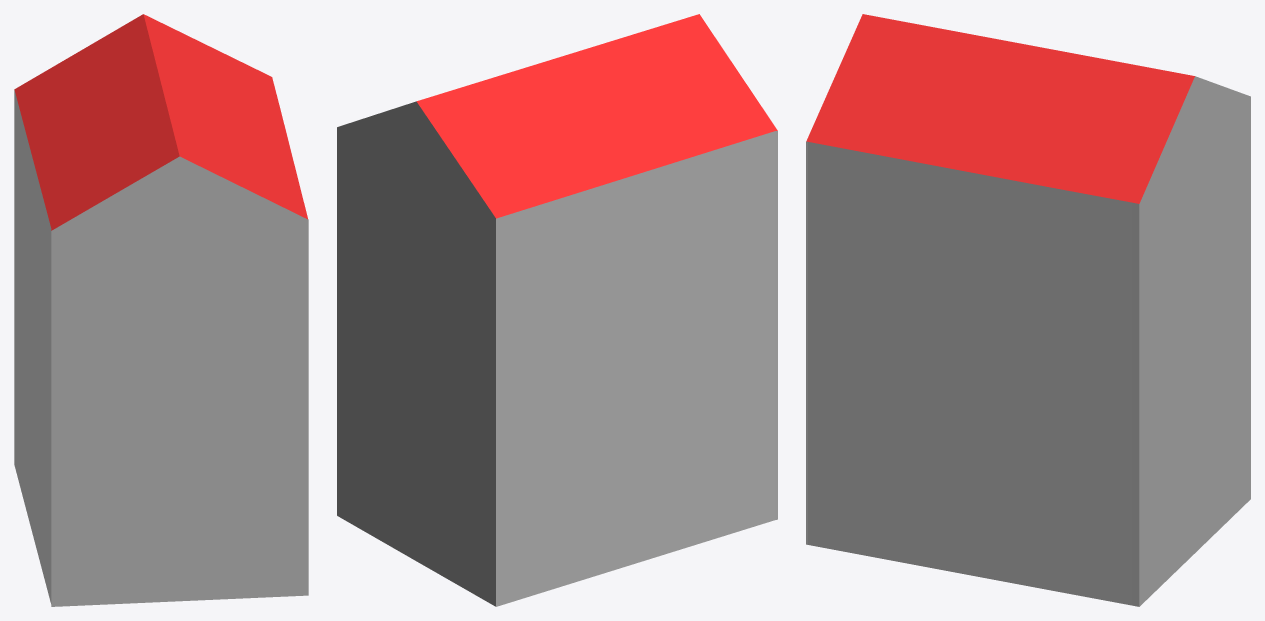
File: DEBY_LOD2_4907146.dae
The picture shows the model from 3 angles, left to right: view 1: azimuth 30°, elevation 25°; view 2: azimuth 150°, elevation 25°; view 3: azimuth 270°, elevation 25°; orthographic projection. The views are drawn at different scales.
Size of the model in its own units: 16.26 by 18.04 by 21.35.
